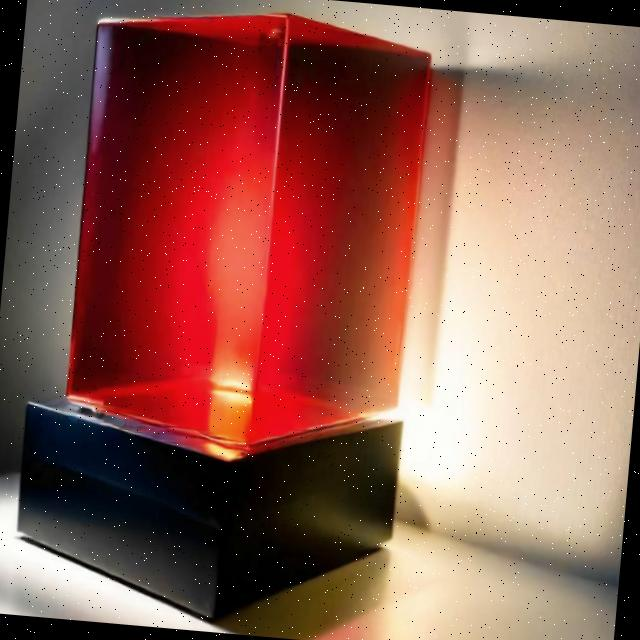red_block: (60, 0, 433, 459)
